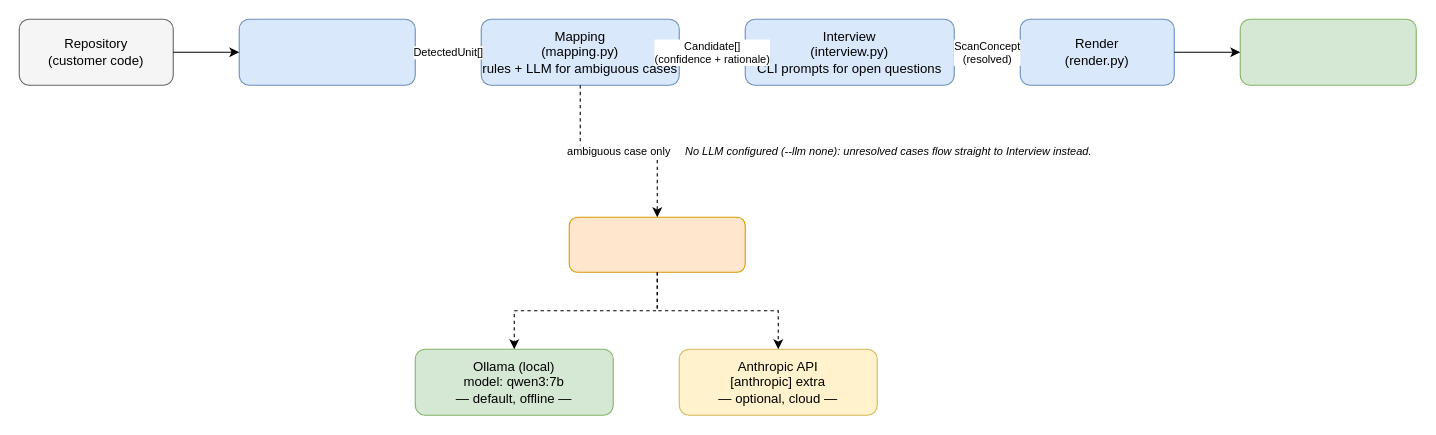
The diagram is 1436 pixels wide and 435 high, and some of its shapes have lost their labels. Here are the shapes that lost their labels. From the top down, the box of each, then its label:
(238, 18, 415, 85): Inventory (inventory.py) deterministic, no LLM
(1239, 18, 1416, 85): Markdown Scan Concept report
(568, 216, 745, 272): LLMClient (llm/__init__.py)
